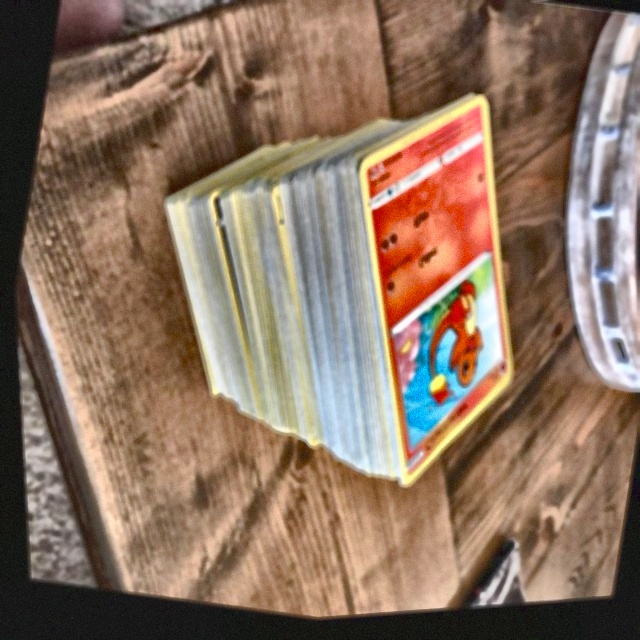card: (357, 101, 508, 490)
